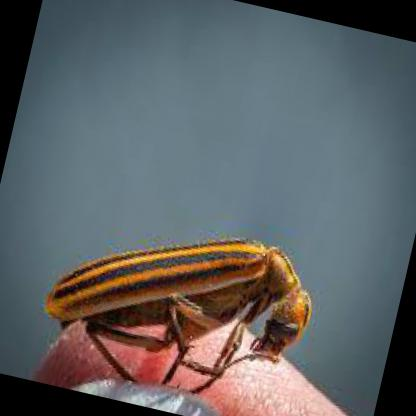blister beetle: (44, 240, 314, 388)
